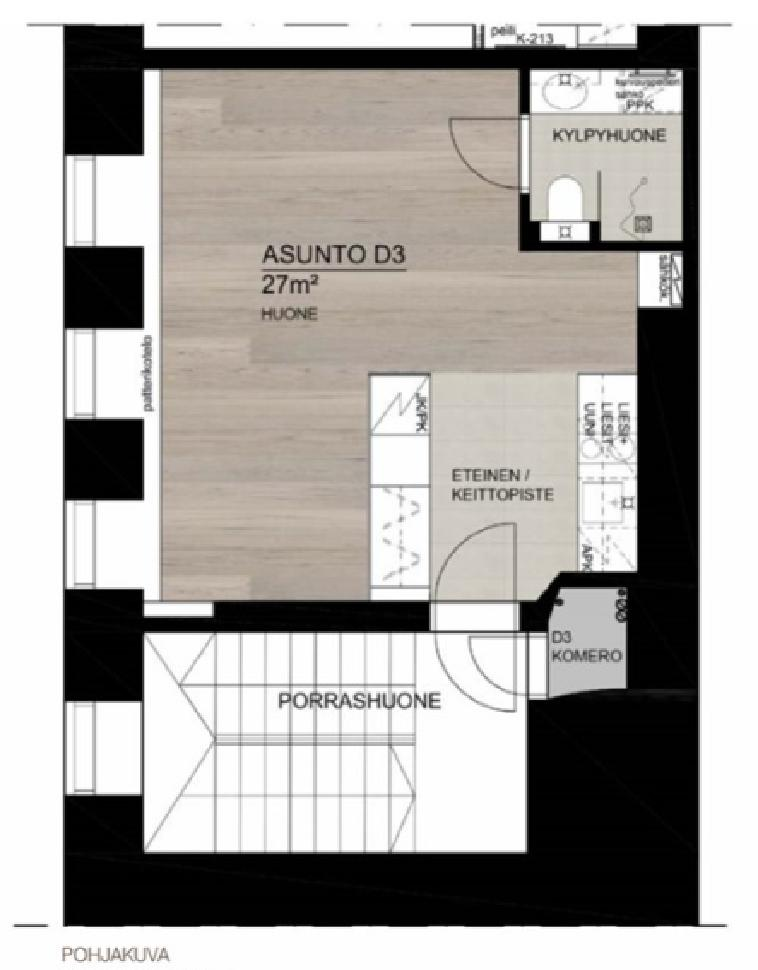door: (433, 524, 519, 721), (450, 116, 537, 195), (466, 628, 549, 698)
window: (63, 155, 159, 251), (59, 327, 157, 421), (64, 499, 164, 591), (66, 694, 140, 796)
zone: (162, 63, 650, 603), (143, 633, 524, 859), (528, 66, 680, 235), (540, 586, 635, 715)
